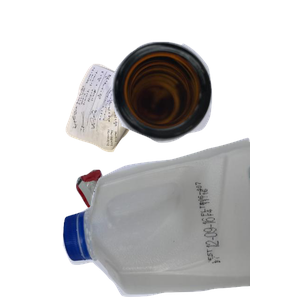glass: (109, 39, 300, 175)
paper: (63, 61, 242, 206)
plastic: (60, 135, 300, 300)
trash: (74, 167, 235, 300)
